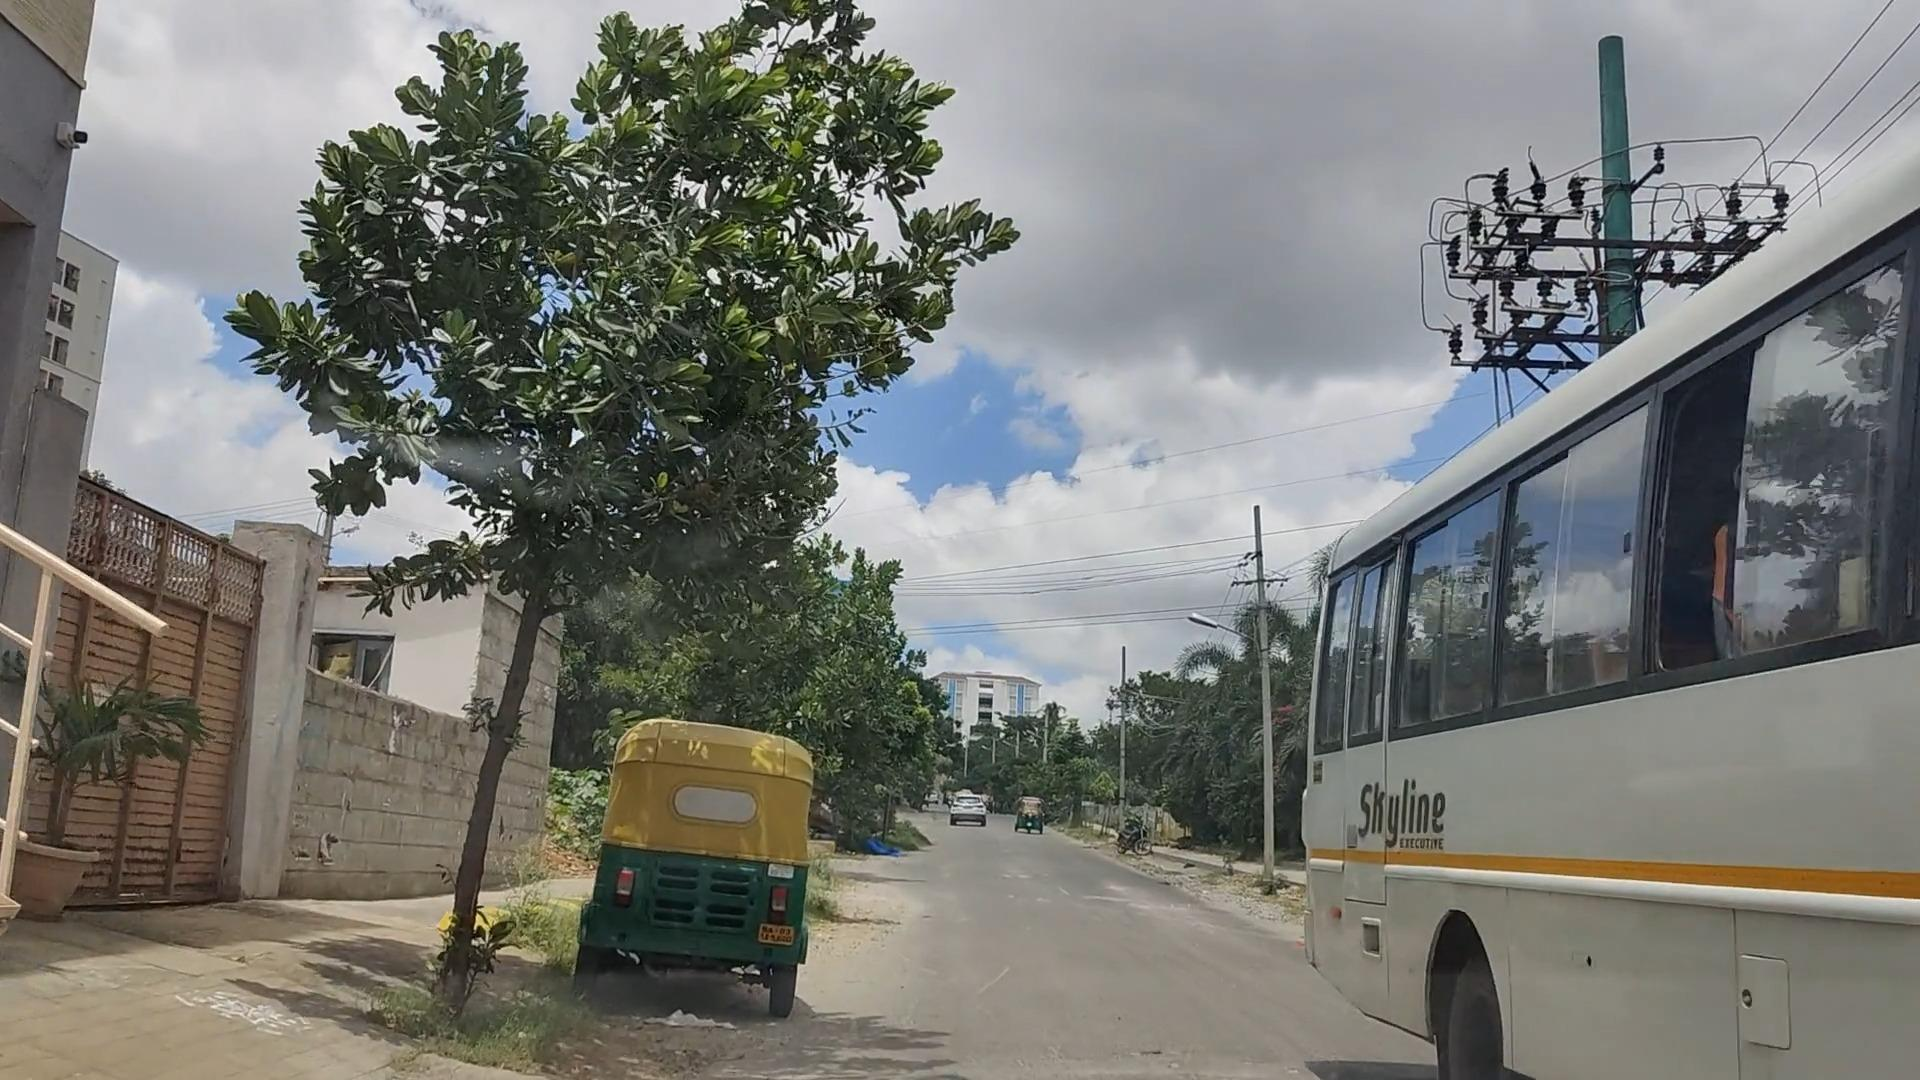HMV: (1302, 182, 1920, 1080)
